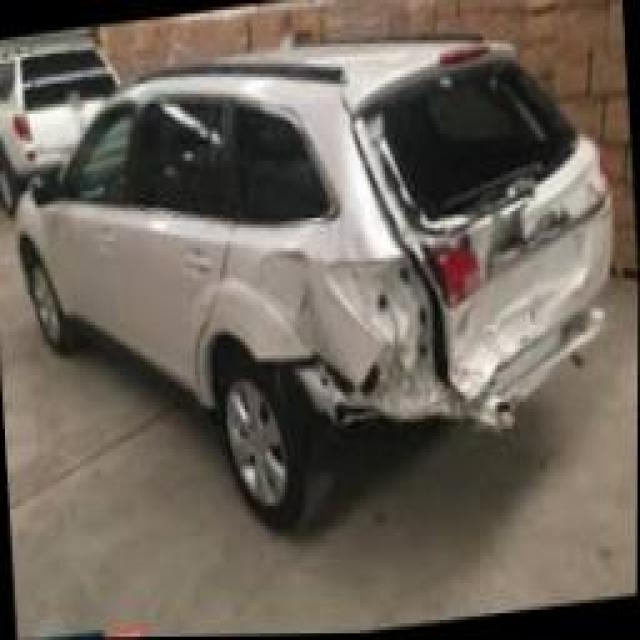Dickey: (336, 47, 609, 406)
Fender: (220, 216, 445, 421)
